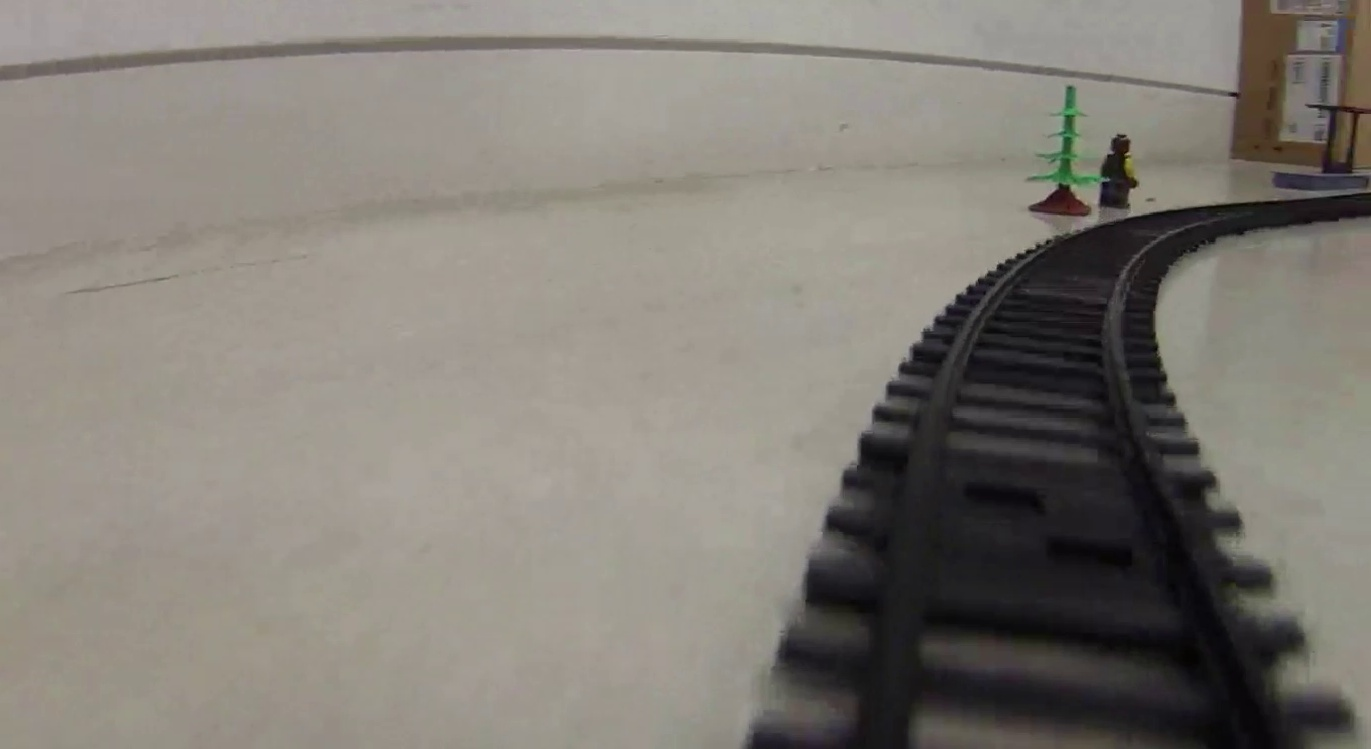people: (1101, 129, 1138, 214)
tree: (1025, 88, 1104, 216)
